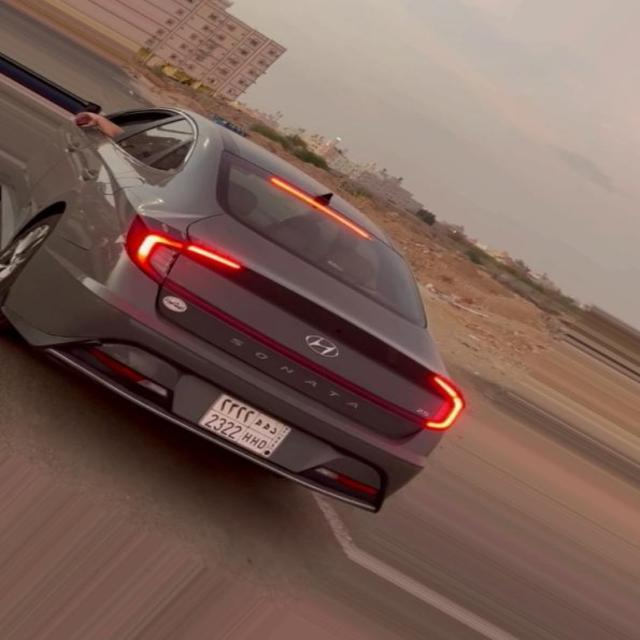Car-plate: (194, 387, 296, 467)
